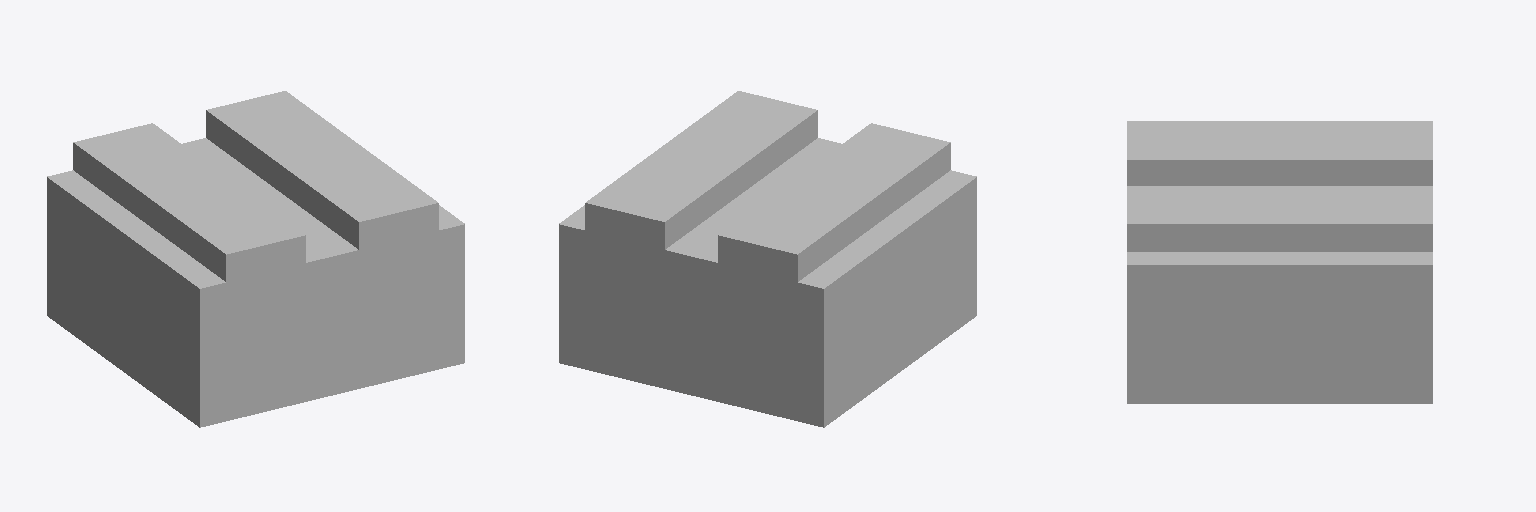
The model's file is soil.obj.
3 renders of one model, left to right at view 1: azimuth 30°, elevation 25°; view 2: azimuth 150°, elevation 25°; view 3: azimuth 270°, elevation 25°, orthographic.
Parts seen in each view (by area): view 1: object 1; view 2: object 1; view 3: object 1.
Part boxes in pixels (x1,y1,x2,y2): object 1: (47, 91, 464, 427); object 1: (559, 91, 976, 427); object 1: (1127, 121, 1432, 403).
Size of the model in its own units: 1 by 0.6 by 1.